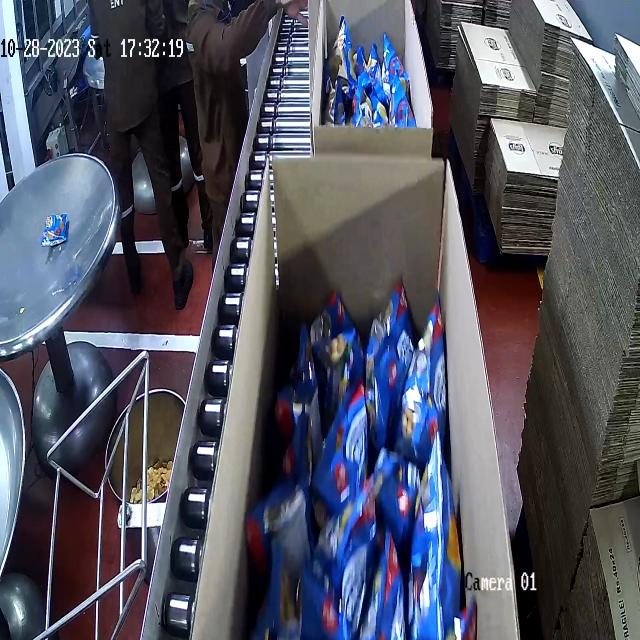PAPRIKA: (262, 295, 458, 640), (325, 15, 418, 136)
